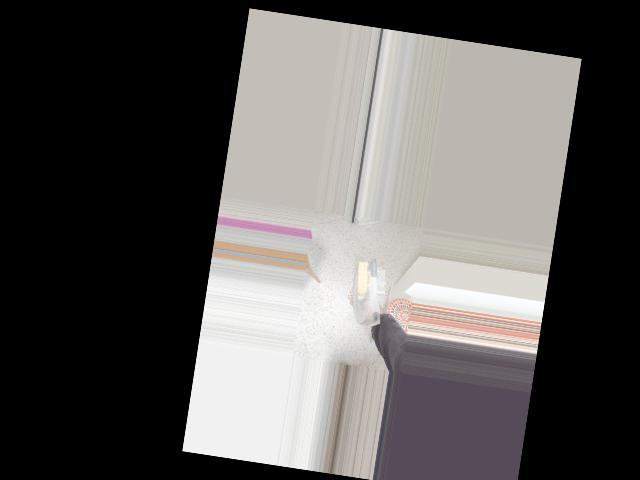cheese: (345, 257, 391, 331)
